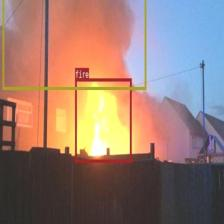fire: (75, 78, 131, 161)
smoke: (2, 0, 146, 89)
